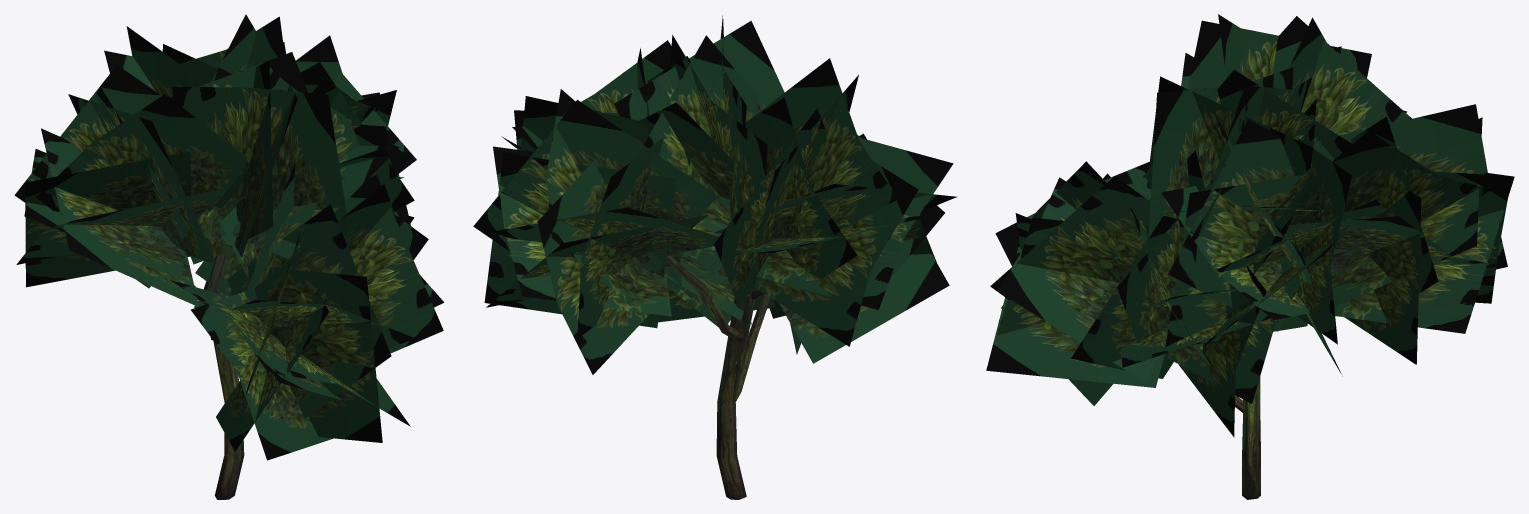
File: tree.glb
3 views of the same model, side by side, from view 1: azimuth 30°, elevation 25°; view 2: azimuth 150°, elevation 25°; view 3: azimuth 270°, elevation 25° (orthographic). The views are drawn at different scales.
Visible parts, largest first — view 1: tree; view 2: tree; view 3: tree.
Boxes of the visible parts, bbox=[...] form: tree: bbox=[14, 14, 443, 499]; tree: bbox=[473, 15, 957, 499]; tree: bbox=[986, 14, 1514, 499].
Size of the model in its own units: 28.24 by 30.09 by 32.43.
Materials: 1 (1 with a texture image).
